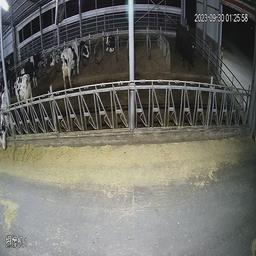cow: (174, 17, 200, 77), (61, 36, 90, 89), (14, 74, 39, 125), (0, 84, 17, 156), (19, 46, 45, 89), (101, 29, 122, 61)
